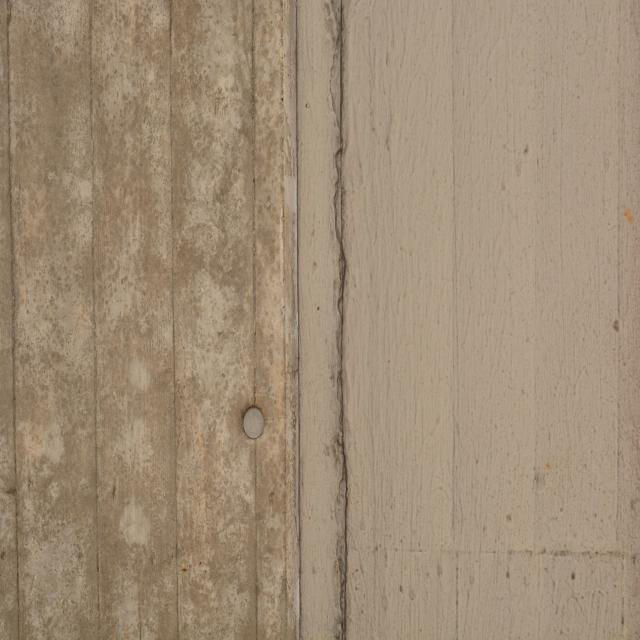vertical crack: (323, 0, 357, 640)
